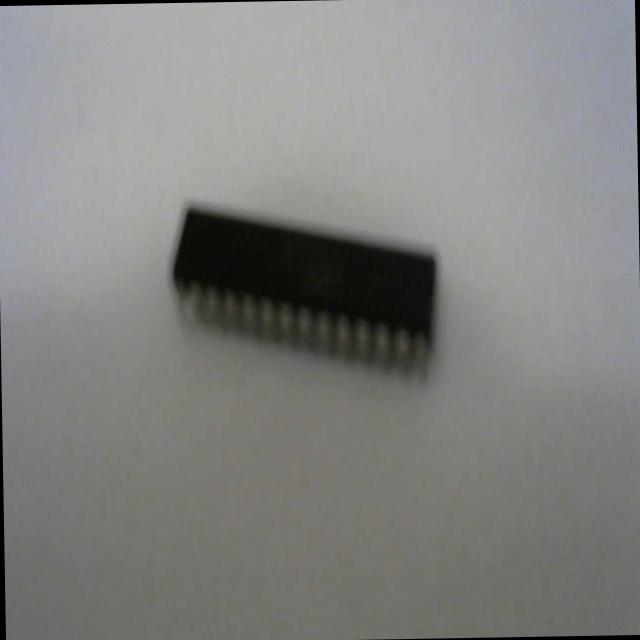atmega: (168, 192, 442, 386)
